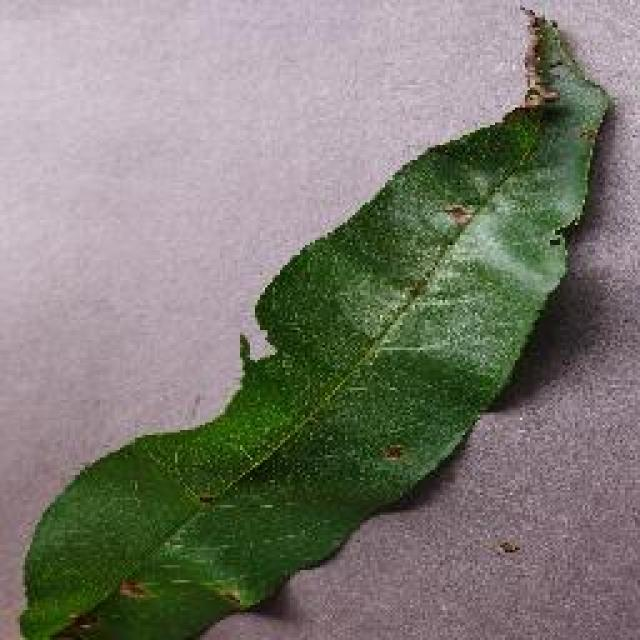Bacterial_spot: (506, 8, 613, 112), (95, 570, 185, 620), (428, 194, 486, 230)
